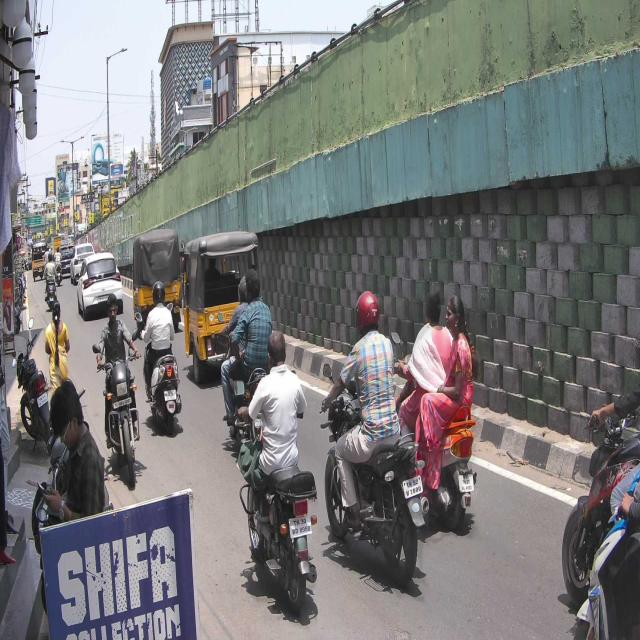single_rider: (322, 287, 426, 592), (236, 327, 318, 612), (92, 293, 142, 484)
